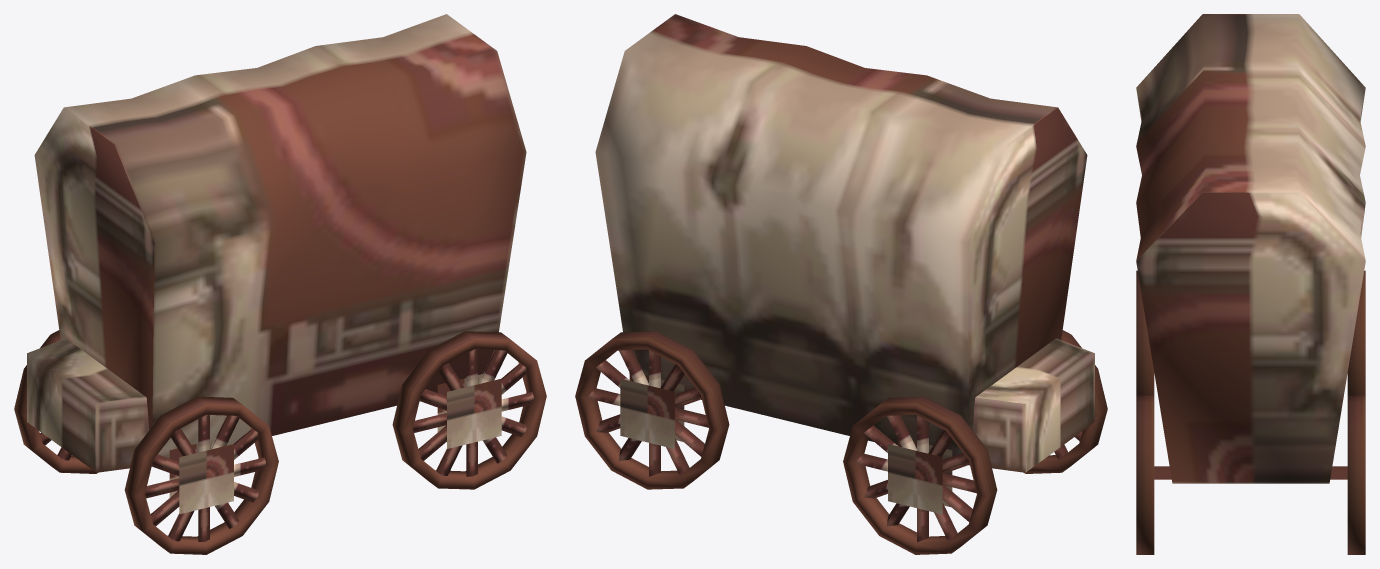
The model's file is int_wst_wagon.dae.
3 renders of one model, left to right at view 1: azimuth 30°, elevation 25°; view 2: azimuth 150°, elevation 25°; view 3: azimuth 270°, elevation 25°, orthographic. The views are drawn at different scales.
Parts seen in each view (by area): view 1: int_wst_wagon; view 2: int_wst_wagon; view 3: int_wst_wagon.
Part boxes in pixels (x1,y1,x2,y2): int_wst_wagon: [14, 14, 546, 554]; int_wst_wagon: [575, 14, 1107, 554]; int_wst_wagon: [1136, 14, 1365, 554].
Bounding box in the file's own units: 62.17 × 55.79 × 30.4.
Materials: 1 (1 with a texture image).
